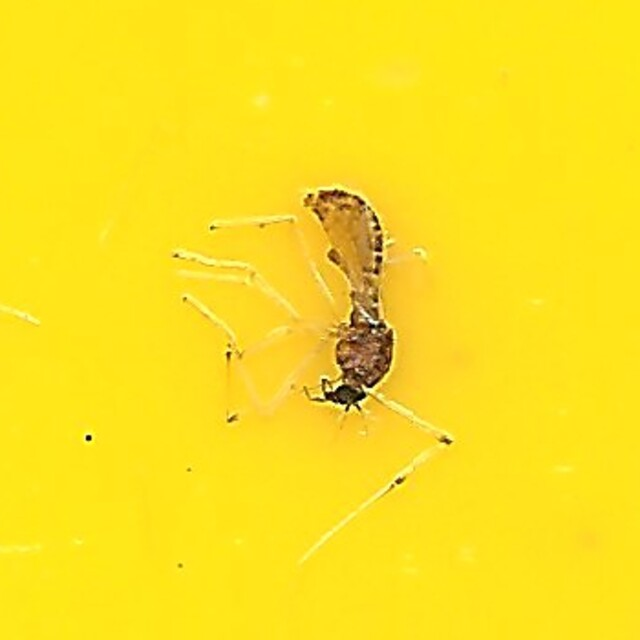Nematocera: (183, 181, 457, 459)
